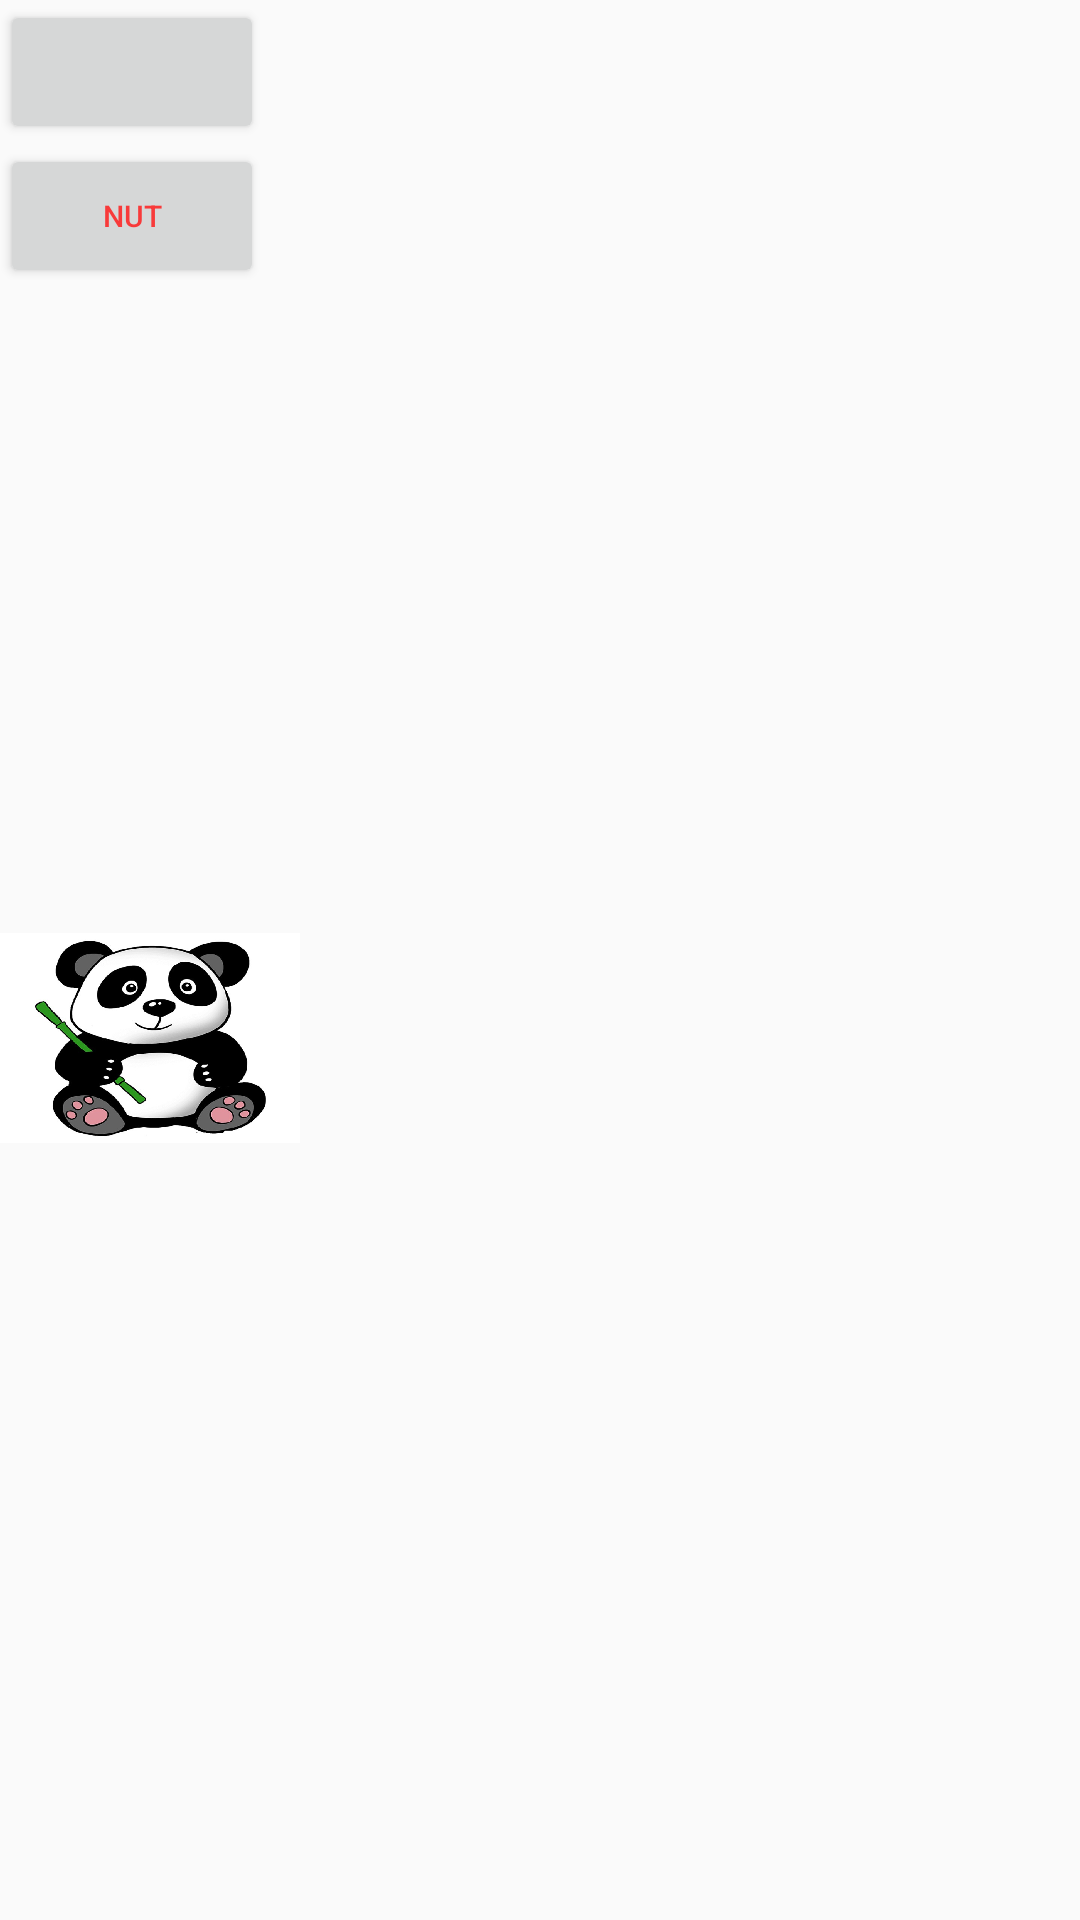

Icon bounding boxes for this 1080 x 1920 phone screenshot, format BBox(x1, y1, x2, y2):
con gau truc: BBox(35, 941, 266, 1136)
